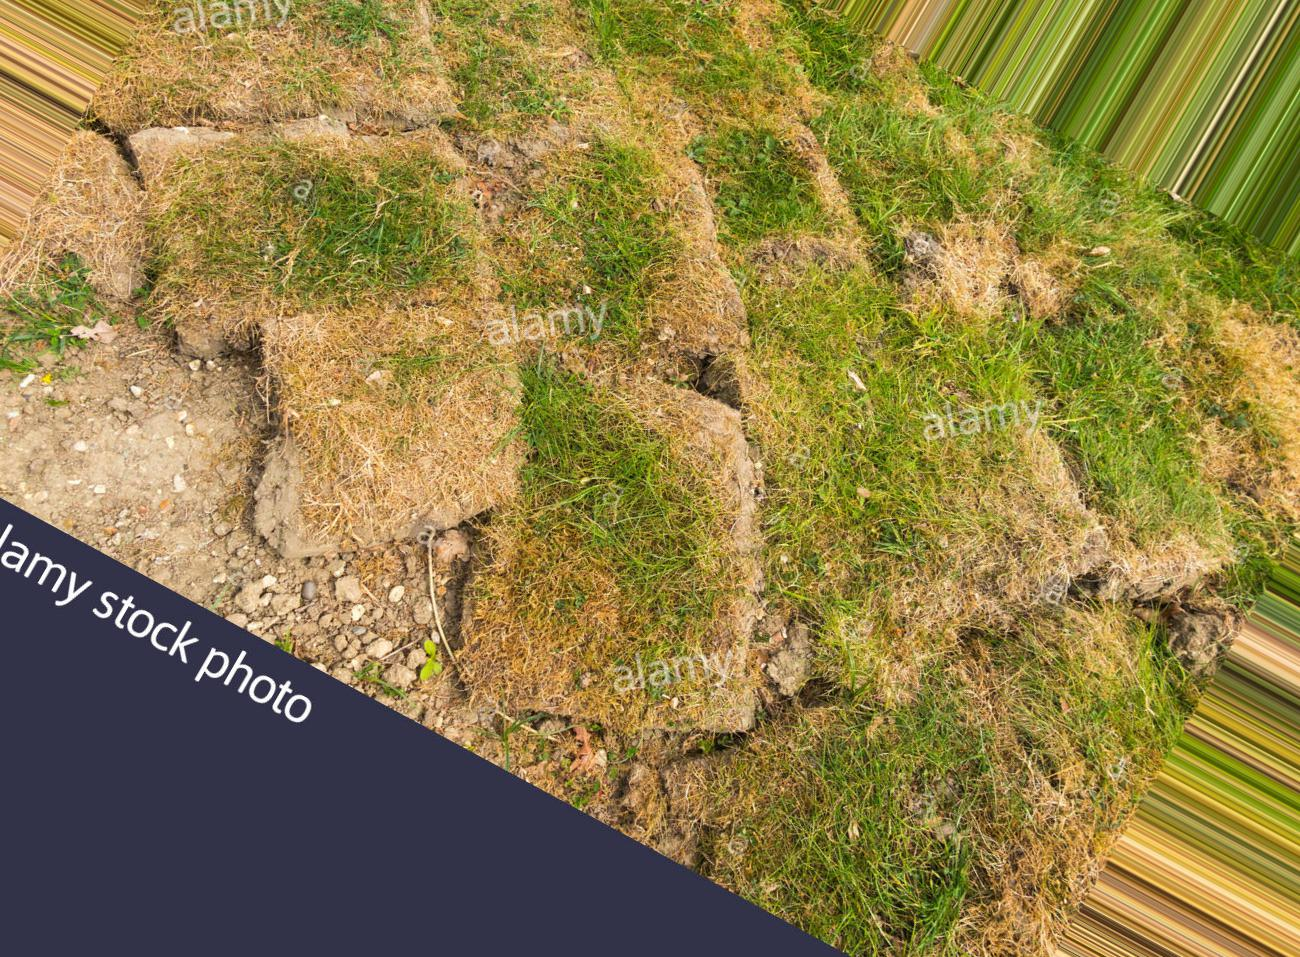patch: (38, 374, 273, 571), (292, 361, 410, 514), (270, 546, 430, 657), (128, 85, 340, 157), (650, 369, 779, 484), (1017, 501, 1146, 598), (1229, 321, 1300, 461), (574, 62, 651, 152)
